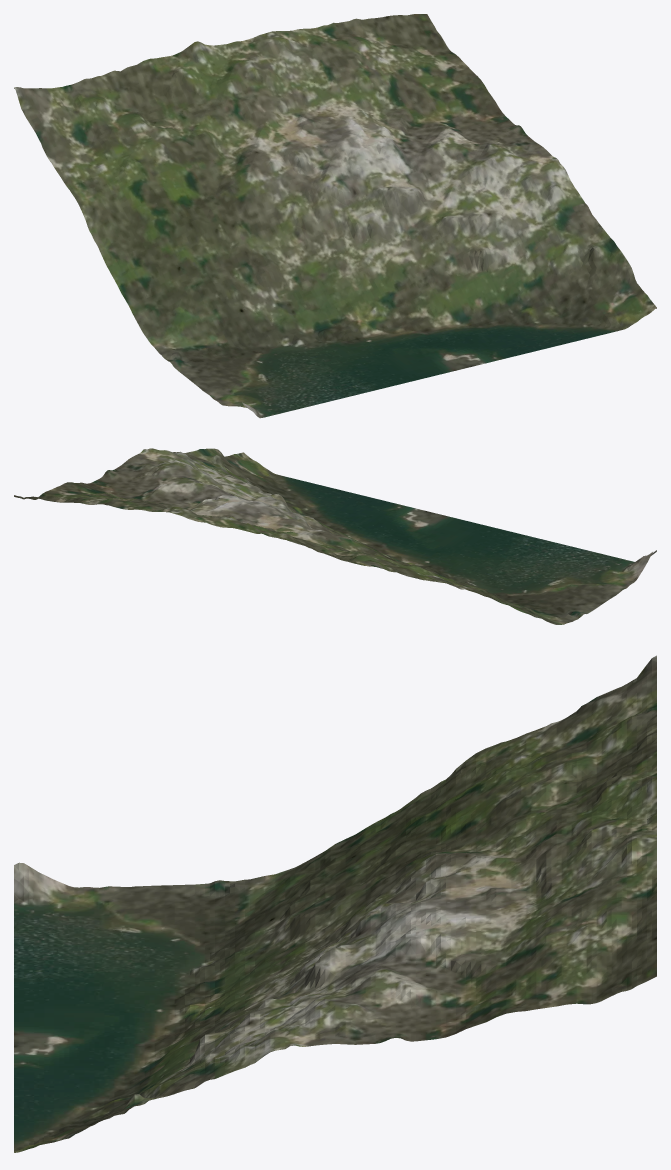
The picture shows the model from 3 angles, top to bottom: view 1: azimuth 30°, elevation 25°; view 2: azimuth 150°, elevation 25°; view 3: azimuth 270°, elevation 25°; orthographic projection. The views are drawn at different scales.
Size of the model in its own units: 250 by 98.32 by 241.
1 material, 1 textured.
